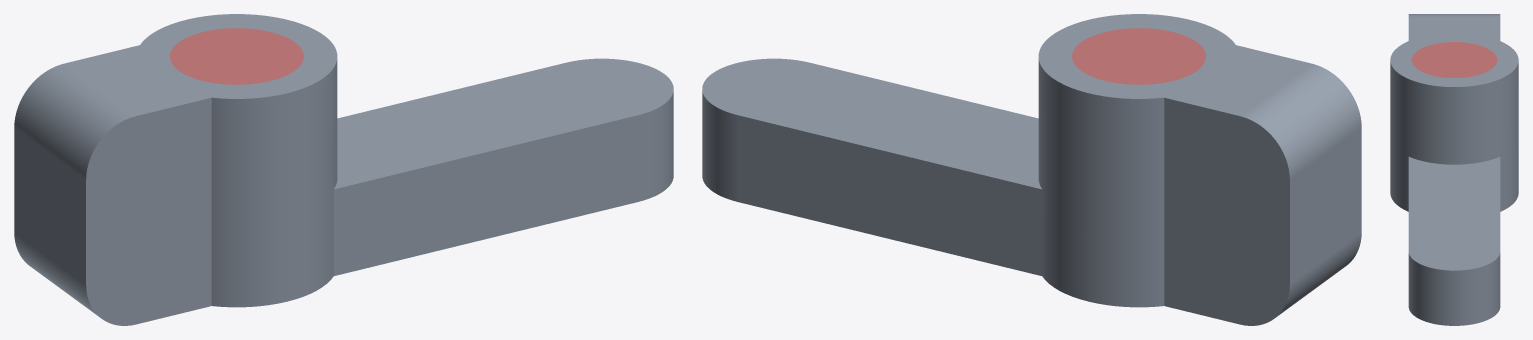
Rendered from step_04.glb.
3 views of the same model, side by side, from view 1: azimuth 30°, elevation 25°; view 2: azimuth 150°, elevation 25°; view 3: azimuth 270°, elevation 25° (orthographic). The views are drawn at different scales.
Visible parts, largest first — view 1: part__split clamp lever, removed__split clamp lever; view 2: part__split clamp lever, removed__split clamp lever; view 3: part__split clamp lever, removed__split clamp lever.
Boxes of the visible parts, <box> form: part__split clamp lever: <box>14,14,673,325</box>; removed__split clamp lever: <box>170,28,303,84</box>; part__split clamp lever: <box>702,14,1361,325</box>; removed__split clamp lever: <box>1072,28,1205,84</box>; part__split clamp lever: <box>1390,14,1518,325</box>; removed__split clamp lever: <box>1411,42,1497,77</box>.
Bounding box in the file's own units: 148 × 48 × 42.
